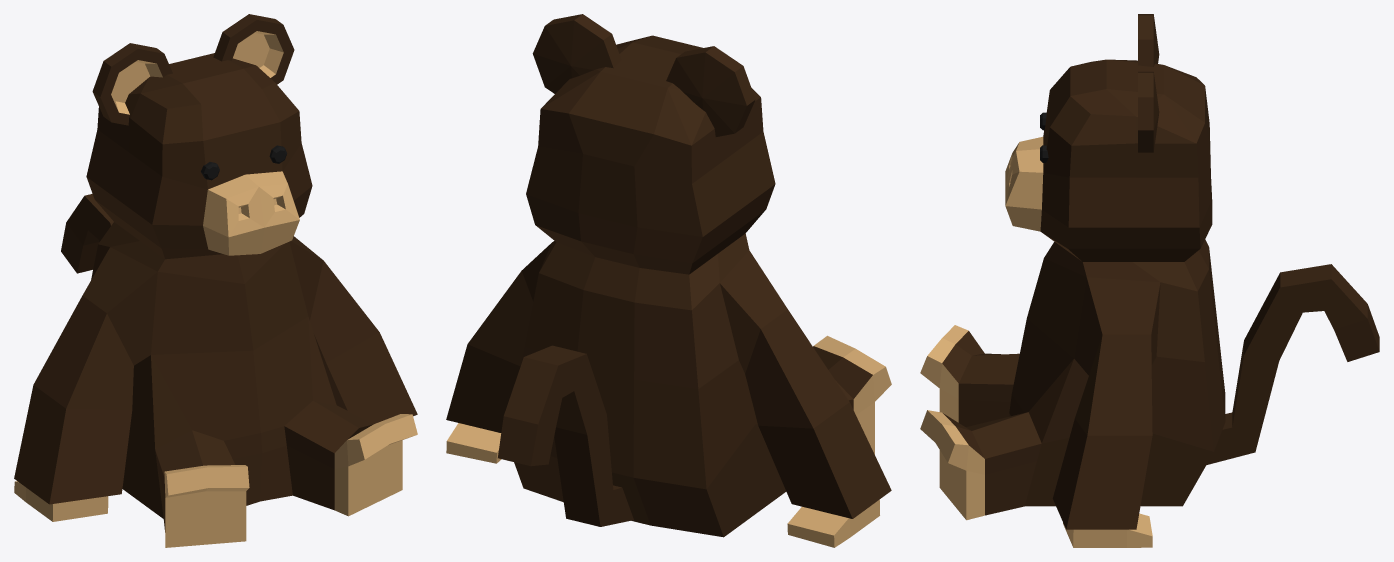
Rendered from Monkey_01.fbx.
3 renders of one model, left to right at view 1: azimuth 30°, elevation 25°; view 2: azimuth 150°, elevation 25°; view 3: azimuth 270°, elevation 25°, orthographic. The views are drawn at different scales.
Visible parts, largest first — view 1: Monkey_01; view 2: Monkey_01; view 3: Monkey_01.
Part boxes in pixels (left/top/right/bottom): Monkey_01: left=14, top=14, right=417, bottom=547; Monkey_01: left=446, top=14, right=891, bottom=547; Monkey_01: left=920, top=14, right=1379, bottom=547.
Size of the model in its own units: 10.83 by 11.84 by 11.78.
